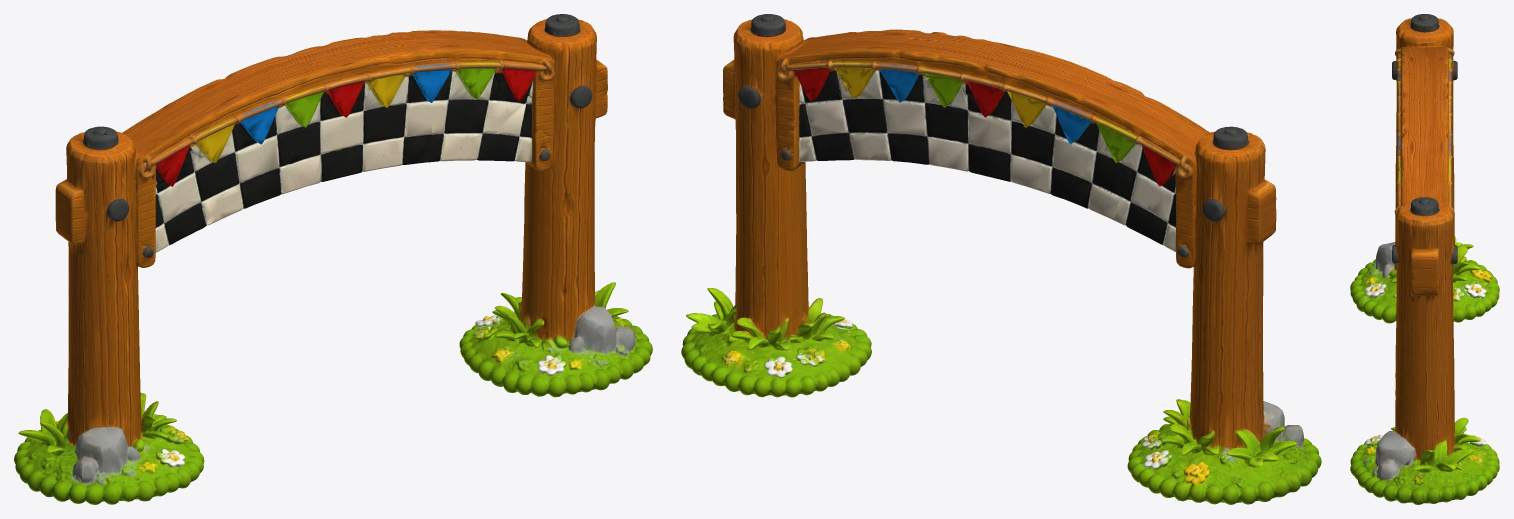
Rendered from Start - finish banner archway.glb.
3 views of the same model, side by side, from view 1: azimuth 30°, elevation 25°; view 2: azimuth 150°, elevation 25°; view 3: azimuth 270°, elevation 25° (orthographic). The views are drawn at different scales.
Size of the model in its own units: 1.9 by 1.06 by 0.4932.
Materials: 1 (1 with a texture image).
